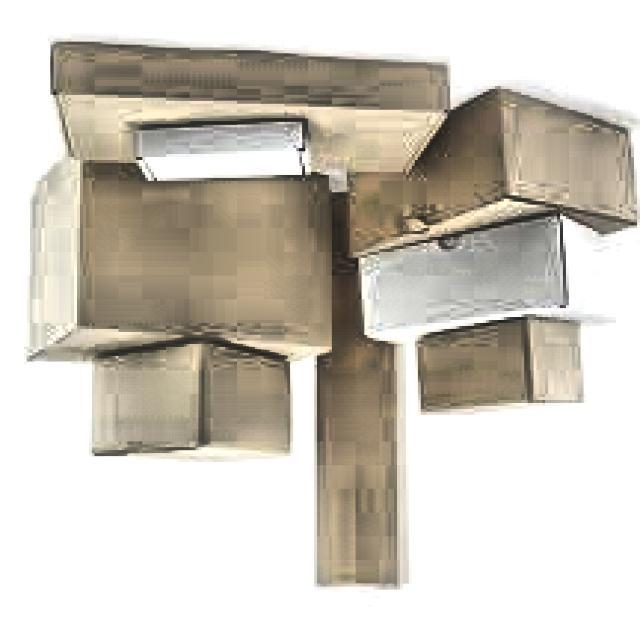cardboard: (24, 160, 332, 368), (48, 44, 450, 181), (343, 89, 638, 261), (356, 213, 568, 347), (88, 340, 290, 466), (415, 317, 584, 418)
